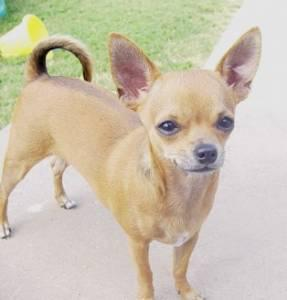dog-chihuahua: (108, 26, 259, 176)
